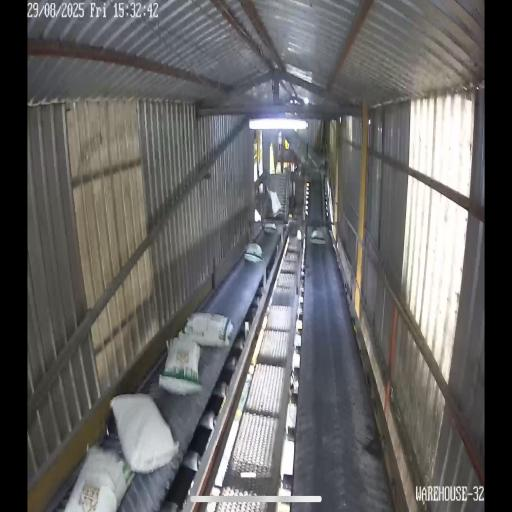c-belt-sack-count: (111, 395, 178, 472), (64, 448, 133, 511), (159, 333, 201, 395), (183, 312, 233, 346), (244, 244, 263, 262), (311, 229, 325, 243)
